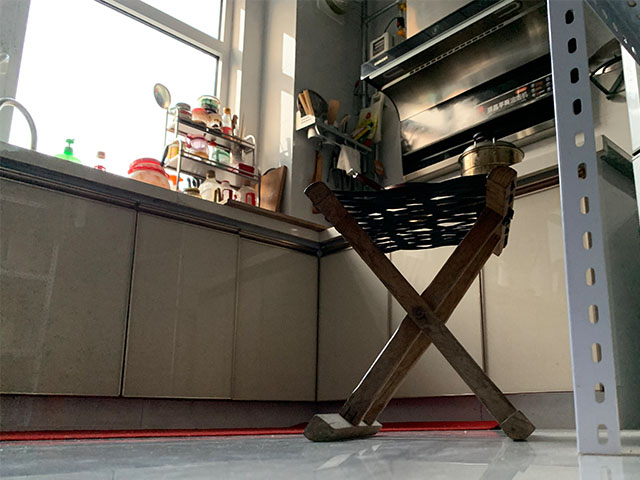cabinet: (1, 148, 320, 432)
carpet: (1, 420, 500, 440)
stool: (302, 164, 537, 442)
